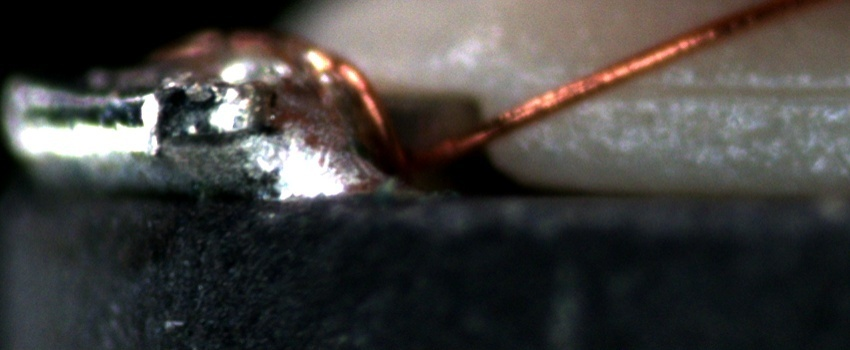DL: (590, 57, 848, 121)
TE: (319, 44, 408, 163)
